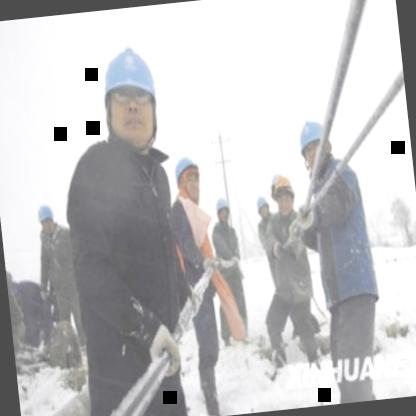helmet: (92, 36, 166, 158), (169, 148, 204, 206), (294, 116, 328, 170), (268, 168, 298, 216), (35, 200, 56, 235), (212, 193, 233, 224), (253, 194, 271, 221)
